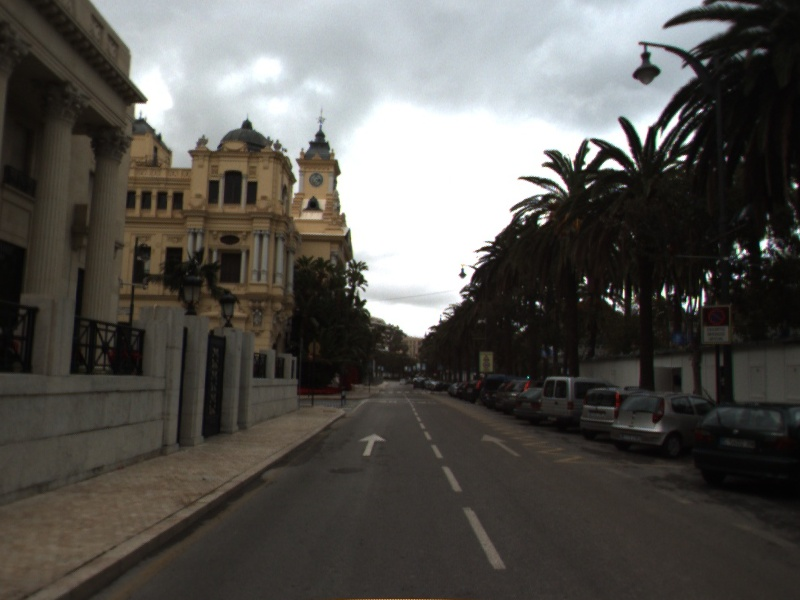STRAIGHT: (478, 431, 523, 458), (355, 431, 389, 458)
